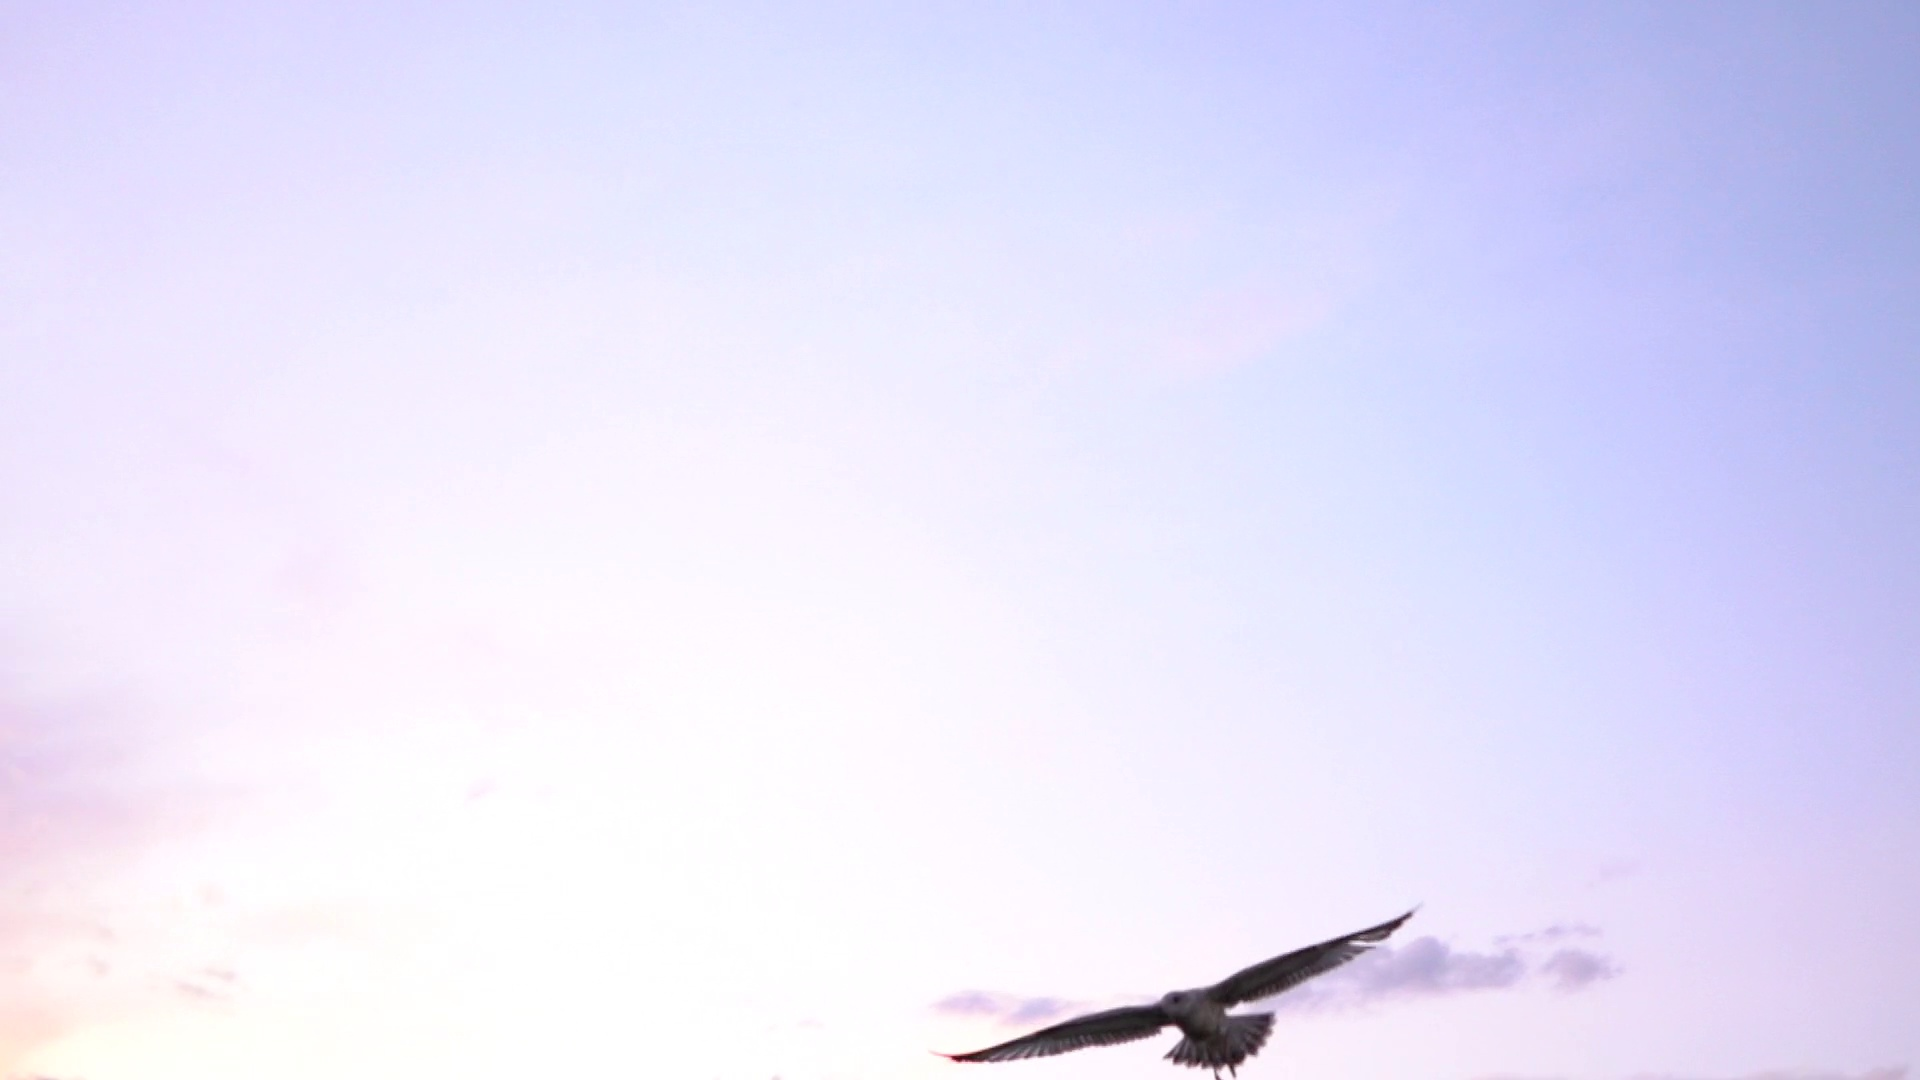bird: (942, 906, 1414, 1079)
